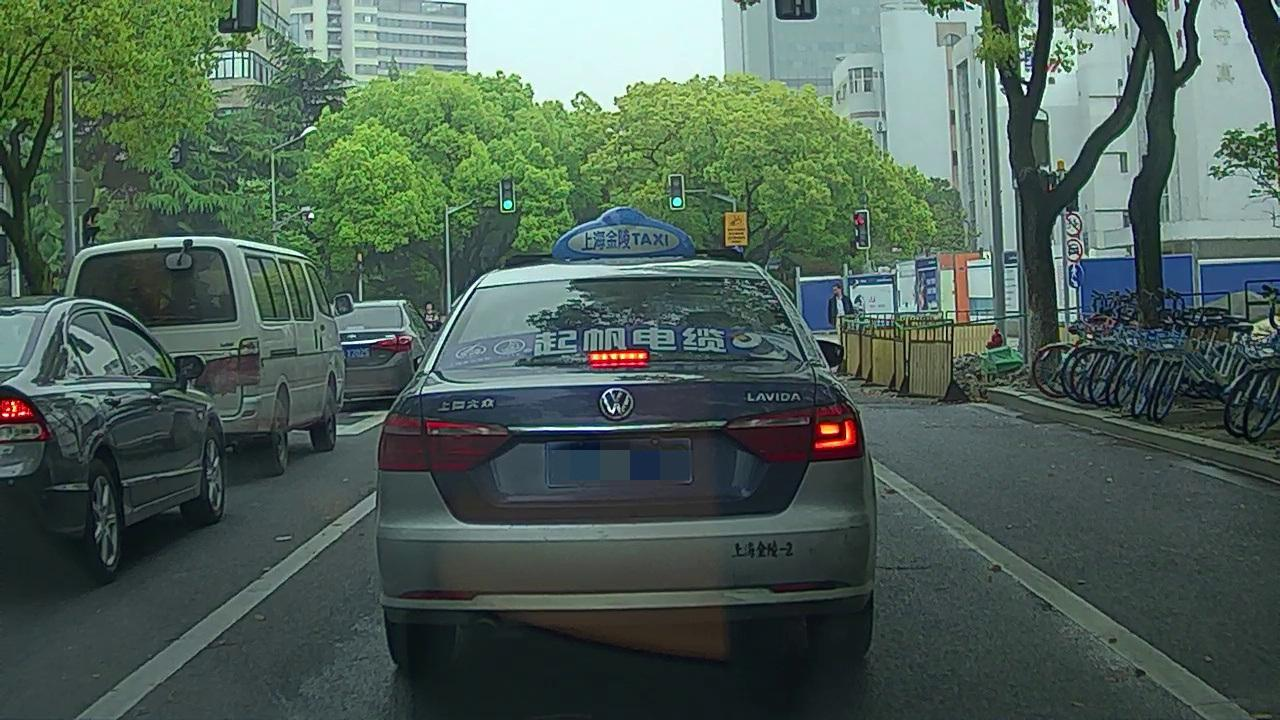traffic_light: (669, 174, 686, 210), (501, 182, 514, 212)
